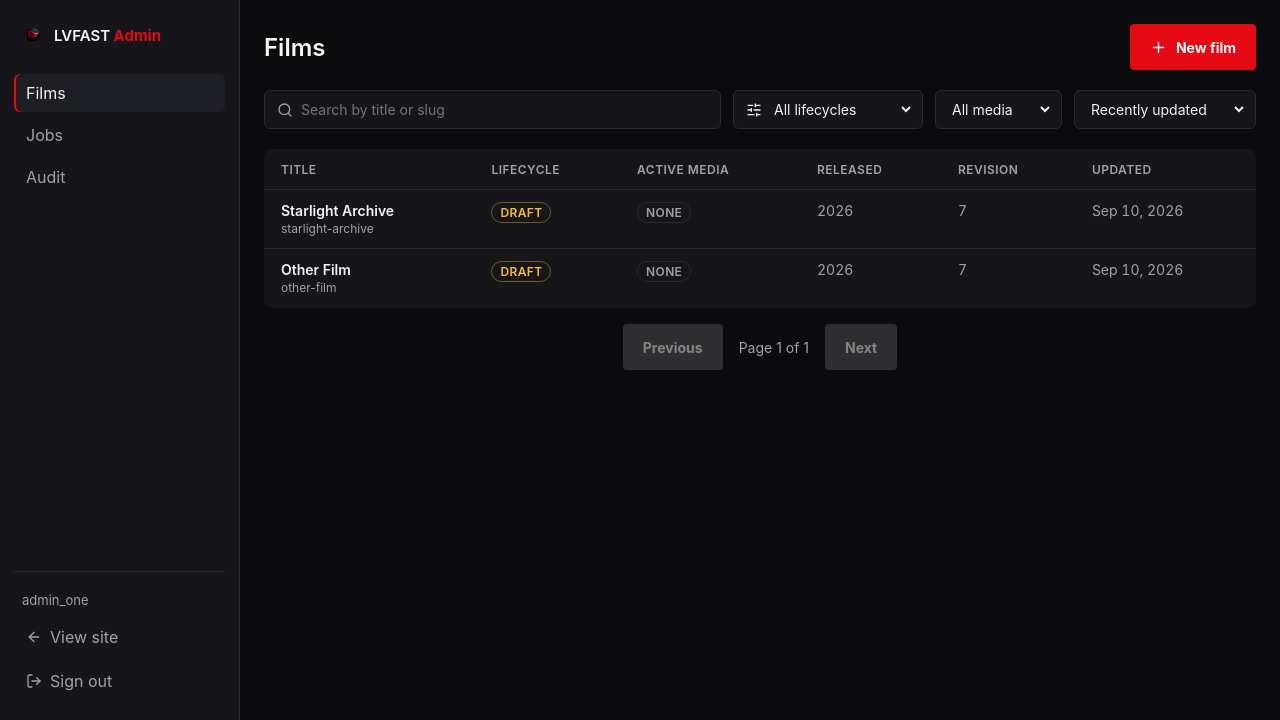
it: Film library › filters the loaded page by search term
Check: the link "Other Film other-film" is shown, box left=281, top=261, right=351, bottom=295
Type "starlight" into the search field named "search films" at (504, 110), box left=301, top=92, right=708, bottom=127
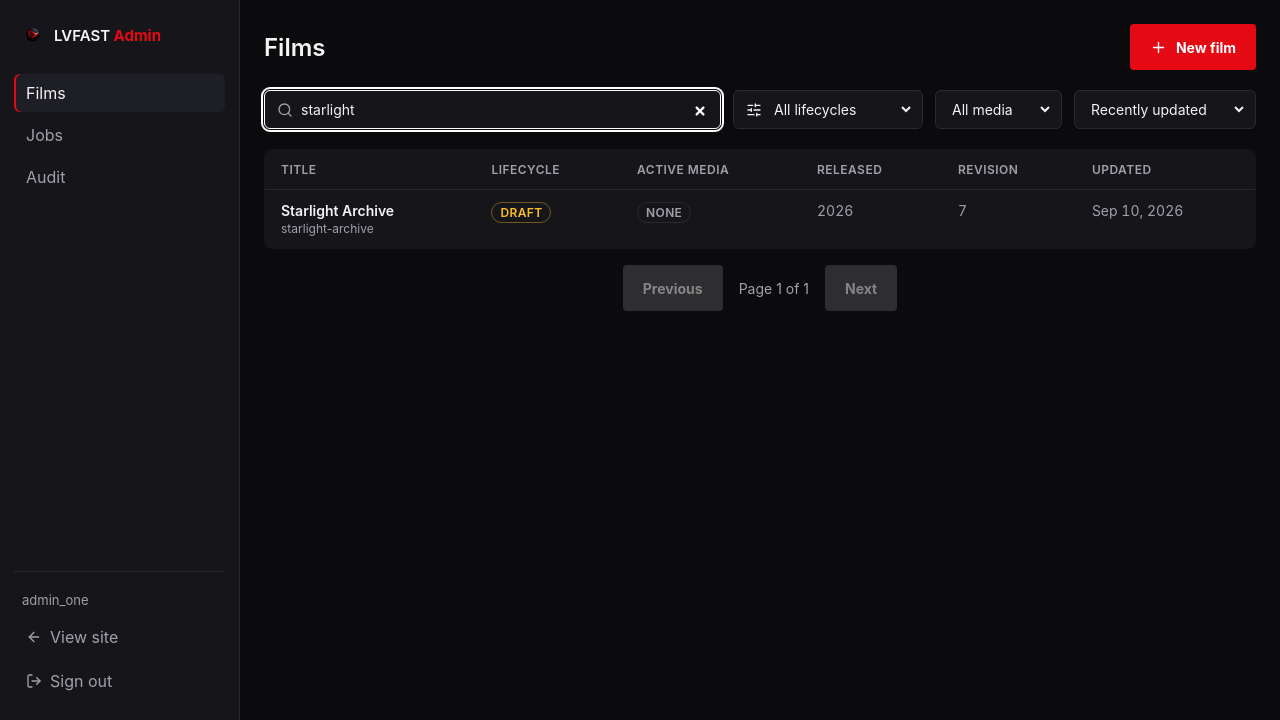
Check: the link "Starlight Archive starlight-archive" is shown, box left=281, top=202, right=394, bottom=236
Check: the link "Other Film" is gone
